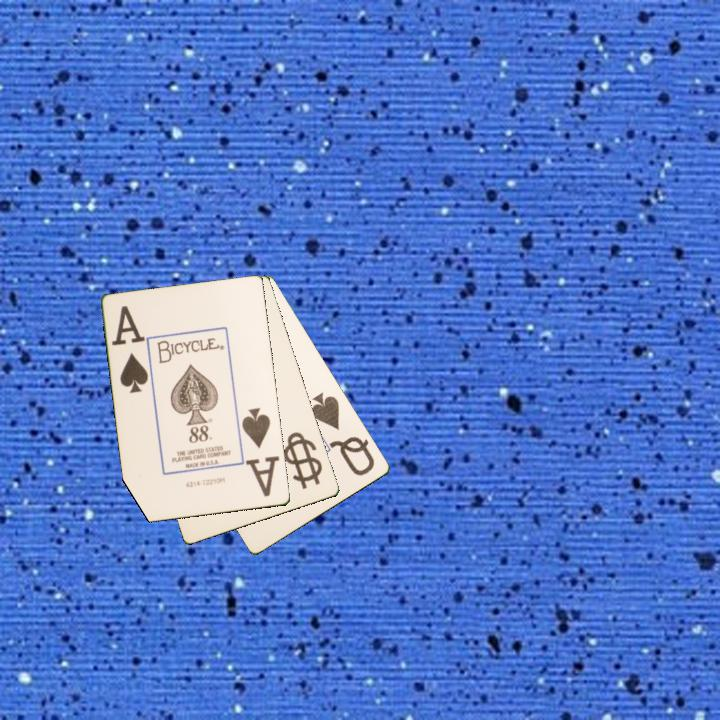As: (109, 302, 151, 397), (239, 404, 274, 491)
JK: (287, 432, 322, 481)
Qs: (308, 388, 378, 479)
